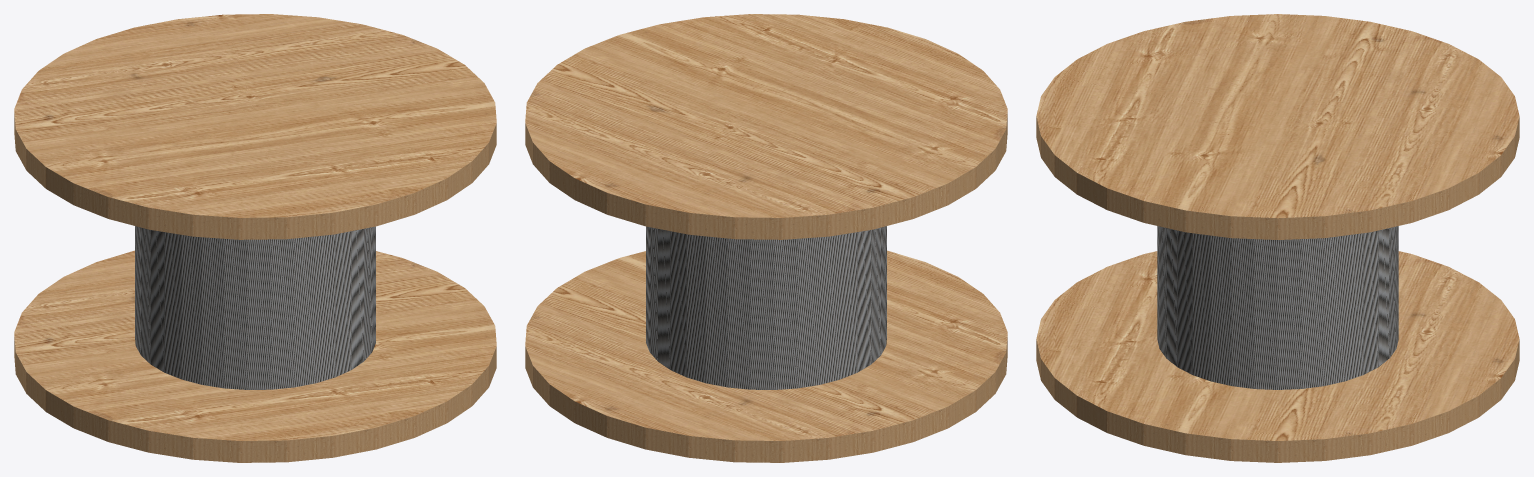
File: Bobina.glb
3 renders of one model, left to right at view 1: azimuth 30°, elevation 25°; view 2: azimuth 150°, elevation 25°; view 3: azimuth 270°, elevation 25°, orthographic.
Visible parts, largest first — view 1: Cylinder.001, Cylinder.002, Cylinder; view 2: Cylinder.001, Cylinder.002, Cylinder; view 3: Cylinder.001, Cylinder.002, Cylinder.
Boxes of the visible parts, box(x1,y1,x2,y2) form: Cylinder.001: box(14, 14, 496, 239); Cylinder.002: box(14, 250, 496, 462); Cylinder: box(135, 226, 375, 389); Cylinder.001: box(525, 14, 1007, 239); Cylinder.002: box(525, 250, 1007, 462); Cylinder: box(646, 226, 886, 389); Cylinder.001: box(1036, 14, 1519, 239); Cylinder.002: box(1036, 251, 1519, 462); Cylinder: box(1157, 226, 1398, 389).
Size of the model in its own units: 2 by 1.12 by 2.
2 materials, 2 textured.
